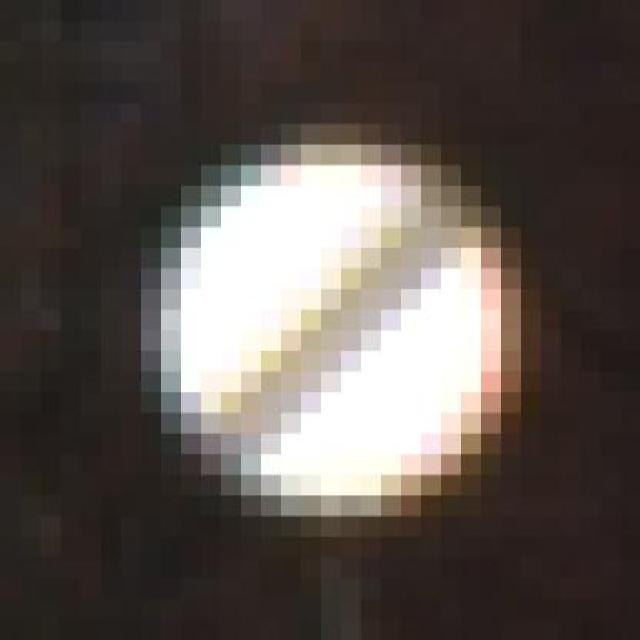End of all speed and passing limits: (120, 103, 540, 537)
